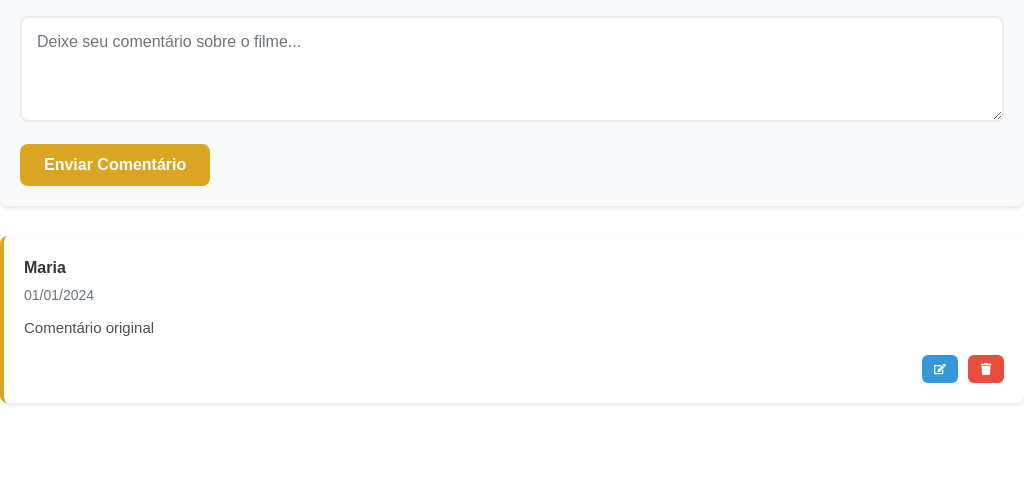
Test: <CommentForm /> › permite editar comentário próprio
Expected: the text "Comentário original" is shown, left=24, top=319, right=154, bottom=336
Click the button titled "Editar": (940, 369) left=922, top=355, right=958, bottom=383
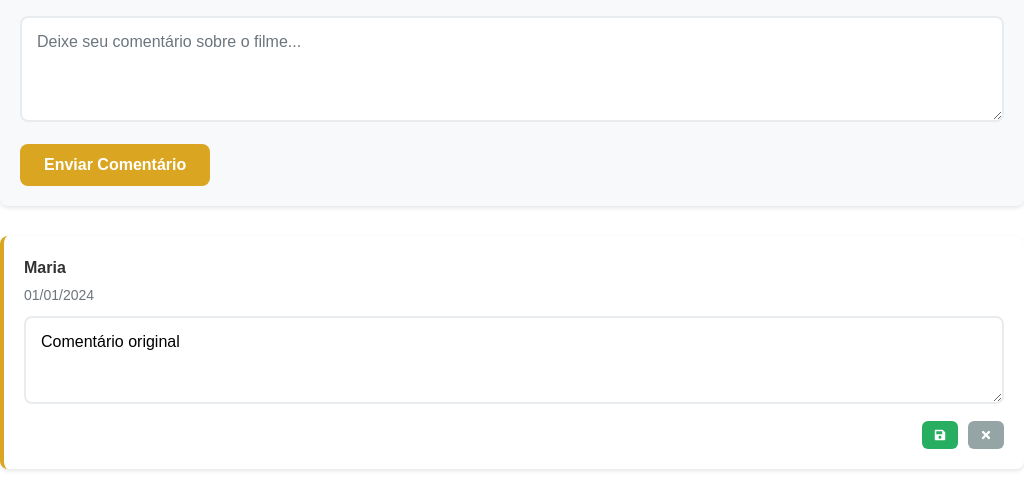
Replace the text in the text box showing "Comentário original" with "Comentário editado": (514, 360) left=24, top=316, right=1004, bottom=404
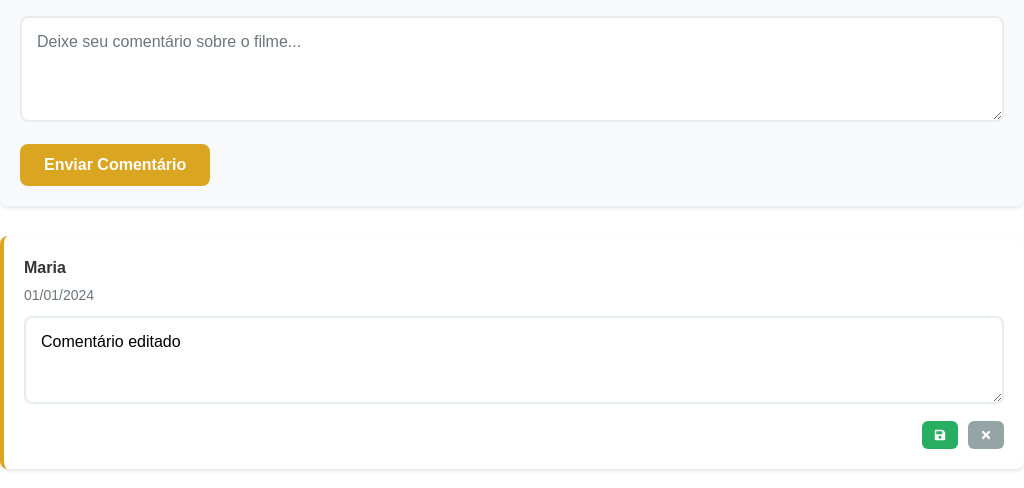
Click the button titled "Salvar": (940, 435) left=922, top=421, right=958, bottom=449
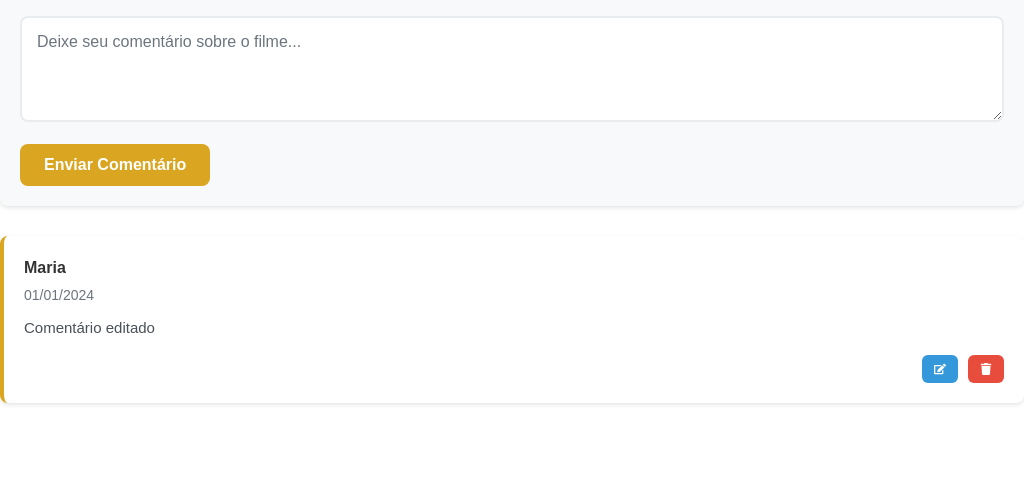
Now the text "Comentário editado" is shown, box left=24, top=319, right=155, bottom=336
